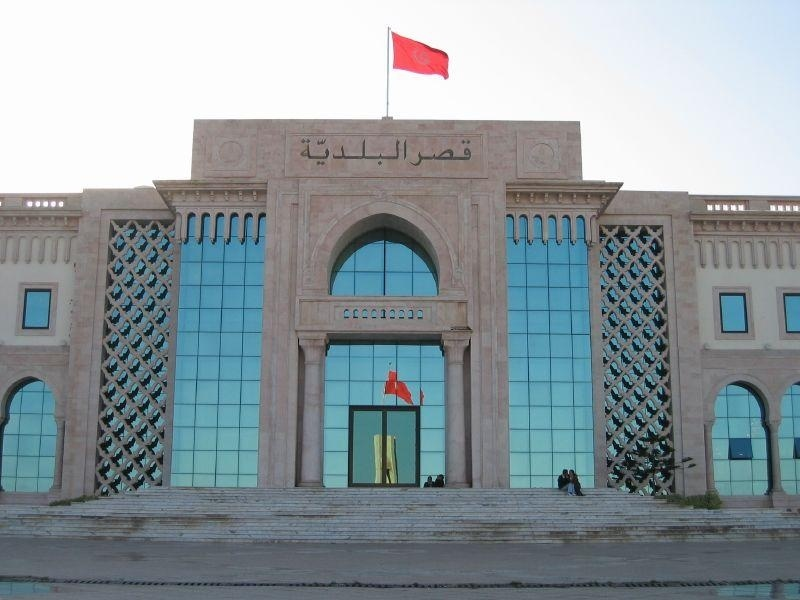text: (305, 138, 320, 168), (321, 138, 336, 168), (337, 138, 352, 168), (353, 138, 368, 168), (369, 138, 384, 168), (385, 138, 400, 168), (417, 140, 432, 169), (433, 140, 448, 169), (449, 140, 464, 169), (401, 138, 410, 168), (465, 140, 473, 169), (409, 140, 416, 169), (300, 138, 304, 168)
